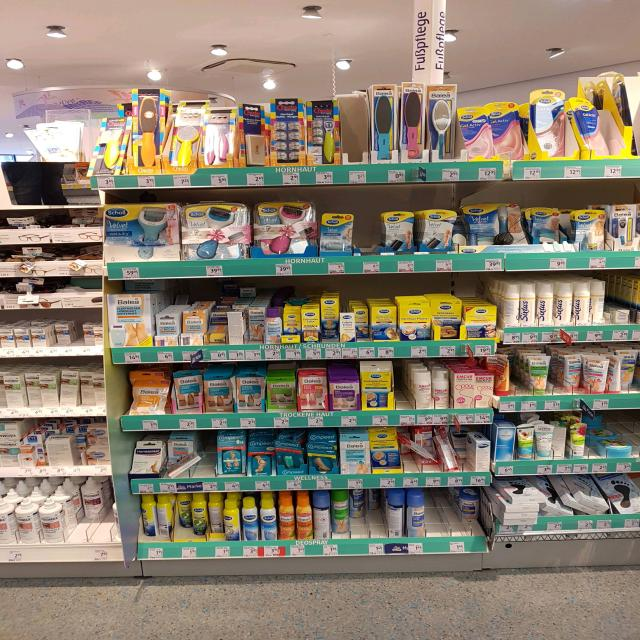unorganised: (499, 475, 609, 526), (398, 428, 490, 473), (87, 108, 132, 178), (20, 118, 79, 165), (176, 495, 222, 540), (240, 99, 270, 167), (138, 493, 174, 540), (272, 434, 308, 478), (171, 371, 205, 413), (528, 205, 561, 247), (497, 203, 528, 246), (167, 443, 203, 479), (431, 300, 463, 339), (349, 489, 382, 526), (383, 489, 406, 539), (318, 295, 341, 343), (332, 490, 352, 540), (80, 478, 103, 521), (313, 489, 331, 542), (56, 369, 80, 408), (499, 281, 519, 327), (459, 487, 482, 527), (562, 354, 584, 391), (493, 357, 513, 395), (589, 281, 606, 323), (207, 313, 229, 343), (608, 353, 624, 393), (551, 422, 568, 457), (227, 311, 245, 343), (248, 307, 264, 343), (354, 307, 370, 339), (55, 322, 70, 346), (83, 322, 94, 346)
